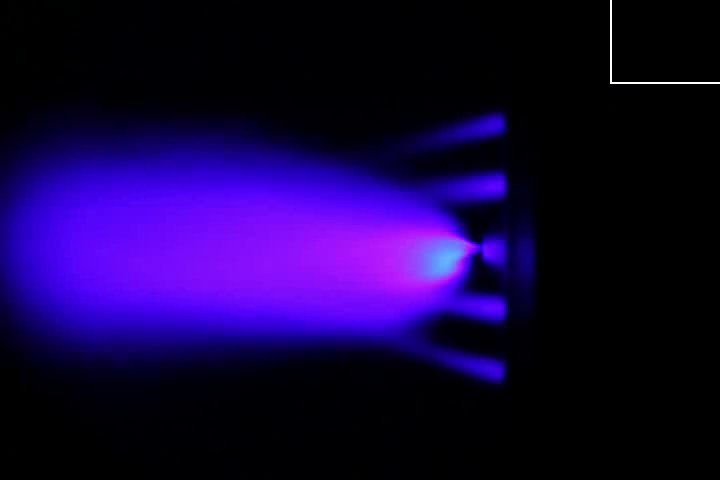burner cap: (481, 230, 507, 271)
pilot flame: (422, 345, 508, 391), (422, 164, 506, 205), (414, 109, 504, 147), (446, 294, 507, 324)
stable: (374, 214, 482, 293)
